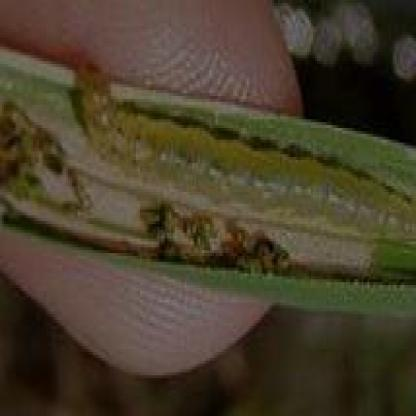leaf-folder: (56, 38, 416, 248)
